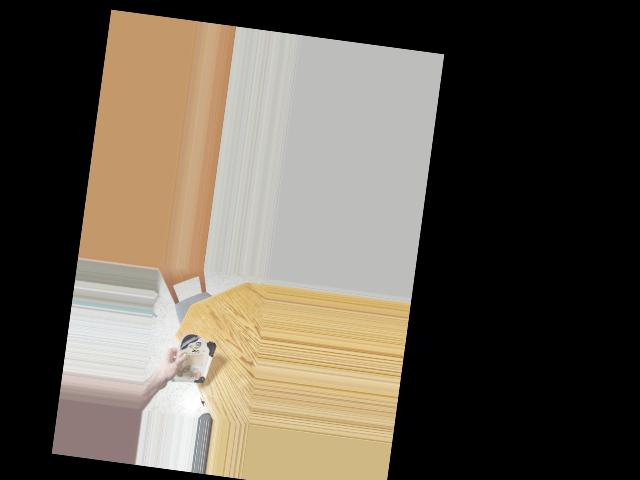cheese: (166, 330, 217, 388)
